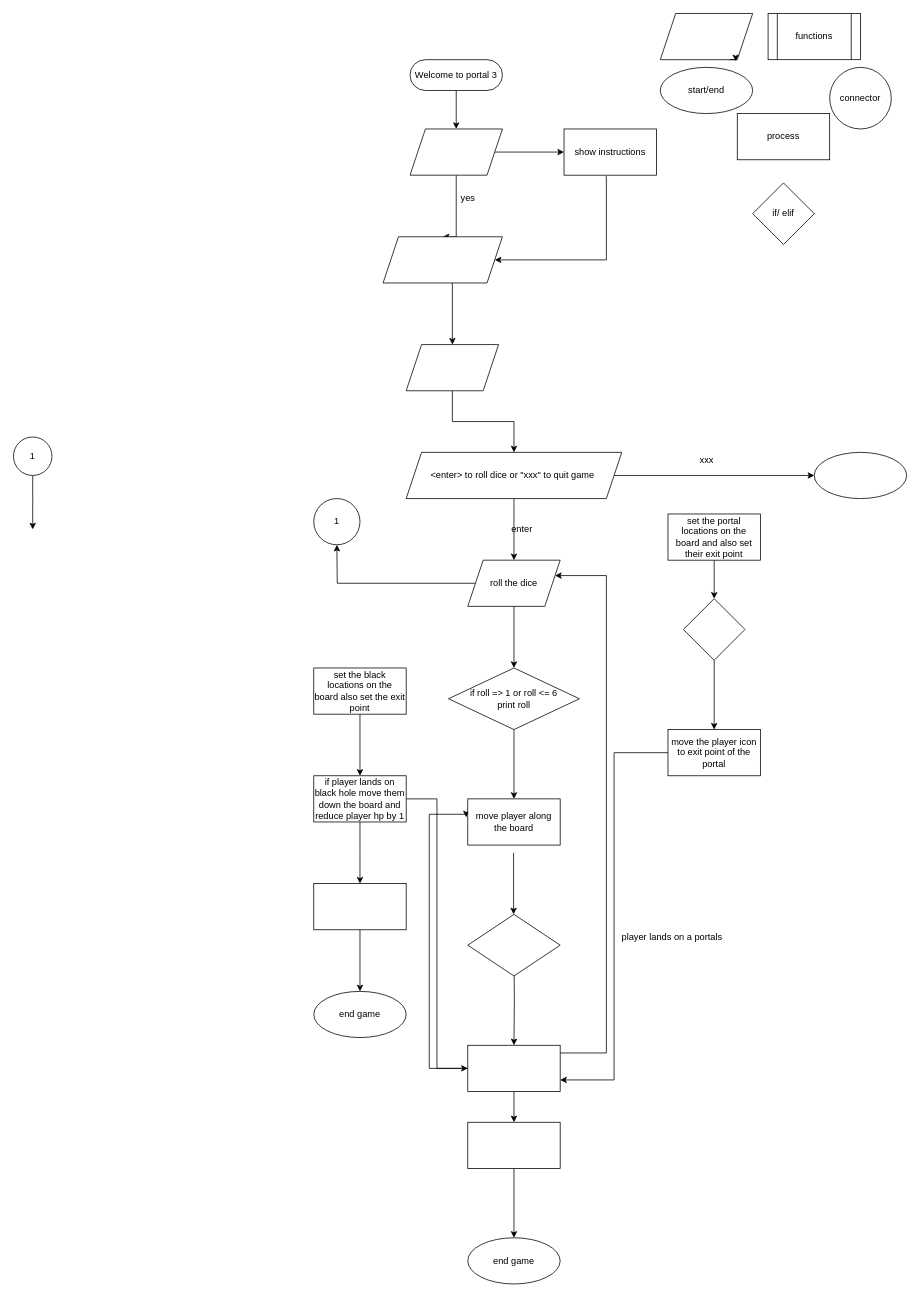
Some shapes in this 920 by 1297 pixel diagram are drawn without their labels. Here are the shapes that lost their labels. From the top down, the centre of each, then its label:
At point (706, 36): "print or input".
At point (455, 151): "have you played before".
At point (442, 259): "solo or duo".
At point (452, 367): "ask player for username".
At point (860, 475): "end".
At point (714, 629): "player lands on a portal".
At point (359, 906): "if player lands on portal 3 times".
At point (513, 945): "does player land on any special steps".
At point (513, 1068): "if player does land on a portal or black hole".
At point (513, 1145): "when player lands on the final step".
